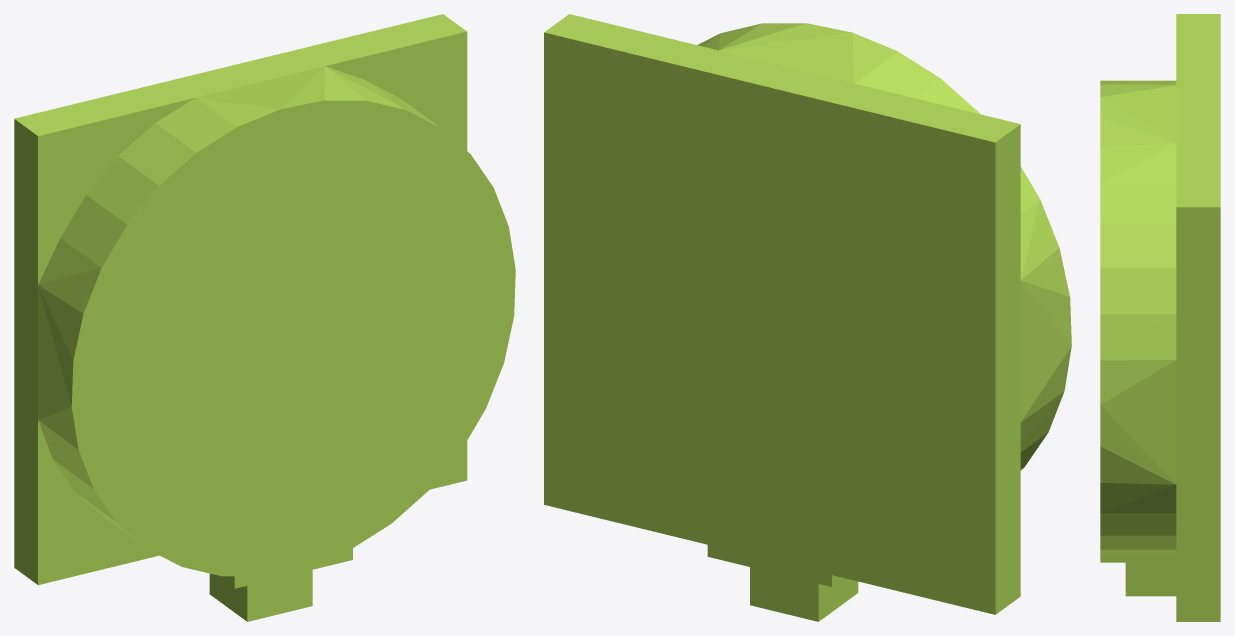
3 views of the same model, side by side, from view 1: azimuth 30°, elevation 25°; view 2: azimuth 150°, elevation 25°; view 3: azimuth 270°, elevation 25° (orthographic). The views are drawn at different scales.
Parts seen in each view (by area): view 1: Node_0000017FEC30D650 (×4); view 2: Node_0000017FEC30D650 (×4); view 3: Node_0000017FEC30D650 (×4).
Part boxes in pixels (<box>): Node_0000017FEC30D650 (×4): <box>14,14,515,621</box>; Node_0000017FEC30D650 (×4): <box>544,14,1071,621</box>; Node_0000017FEC30D650 (×4): <box>1100,14,1220,621</box>.
Bounding box in the file's own units: 0.1497 × 0.1669 × 0.038.
